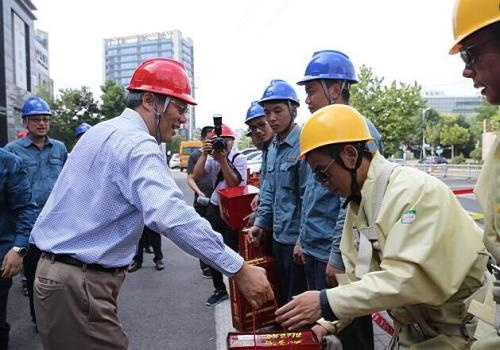blue: (302, 48, 354, 111), (260, 80, 297, 132), (18, 94, 55, 138), (242, 98, 272, 141)
red: (125, 58, 193, 142), (211, 125, 234, 152)
yellow: (298, 104, 377, 196), (448, 2, 500, 100)
